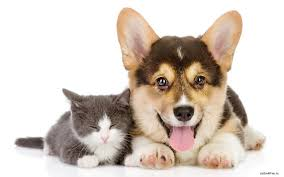cat: (59, 84, 137, 150)
dog: (114, 3, 246, 155)
